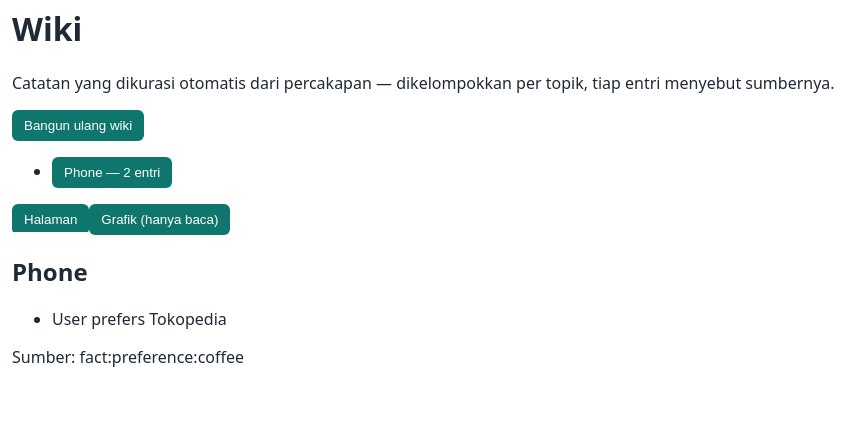
WikiScreen › rebuilds the wiki from the button and reports the count
The image size is (851, 422).
Expected: the button "Phone — 2 entri" is shown, [52, 157, 172, 188]
Click the button "Bangun ulang wiki" at x=78, y=125, box [12, 110, 144, 141]
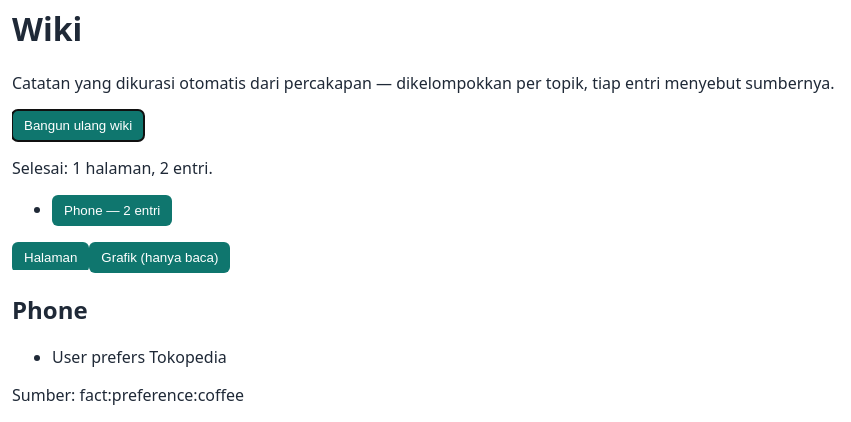
Now the text "Selesai: 1 halaman, 2 entri." is shown, box [12, 157, 213, 179]
